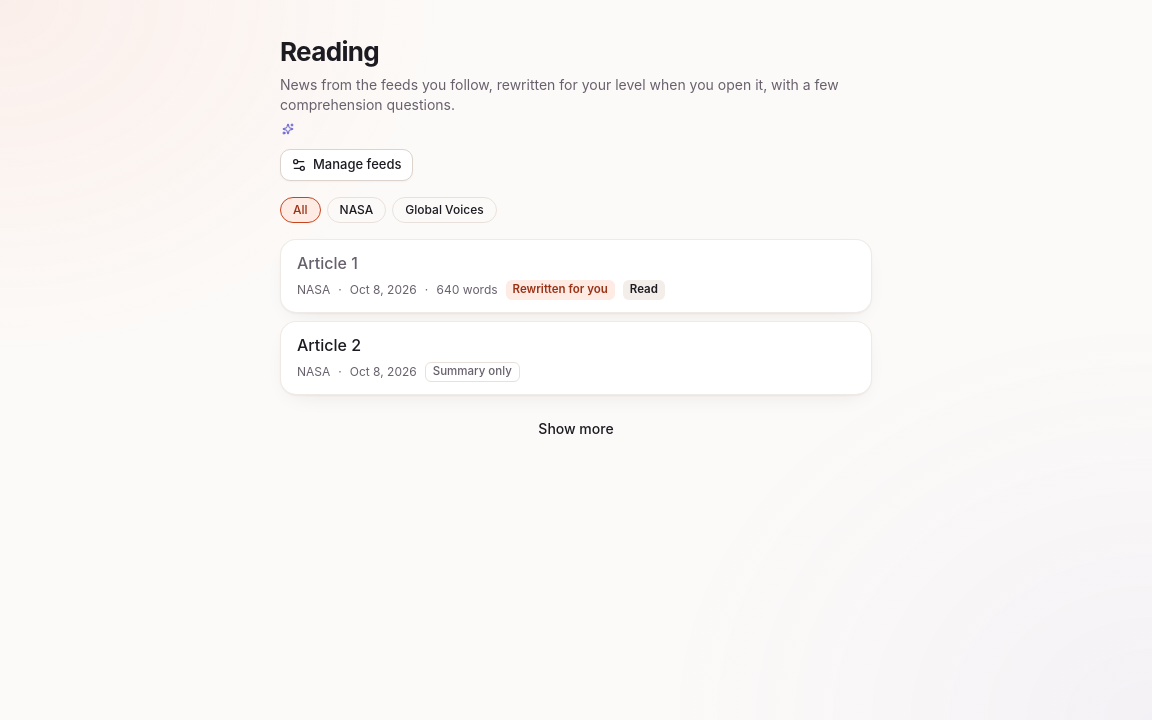
Test: ReadingList › shows why a feed could not be added
This screenshot has width=1152, height=720.
Check: the text "Article 1" is shown, box [297, 253, 358, 273]
Click the button with test id "manage-feeds".
click(346, 165)  # box [280, 149, 412, 181]
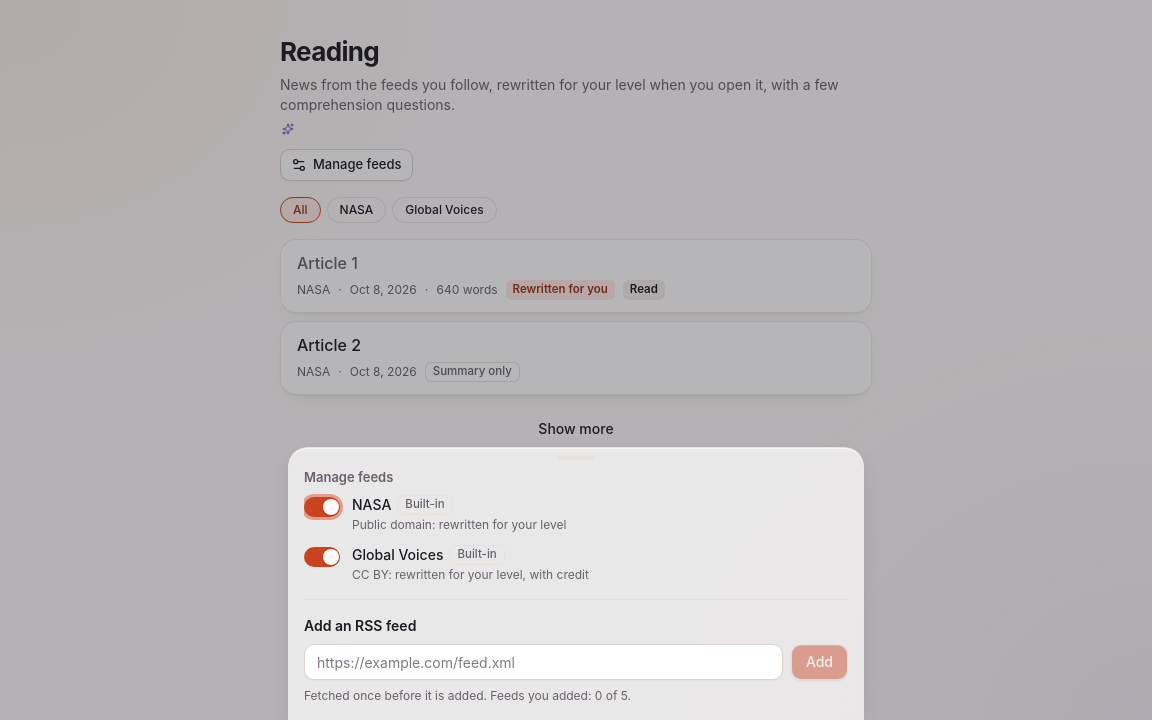
Type "https://example.com/page" into the field with test id "feed-url".
click(543, 662); type("https://example.com/page")  # box [304, 644, 783, 680]
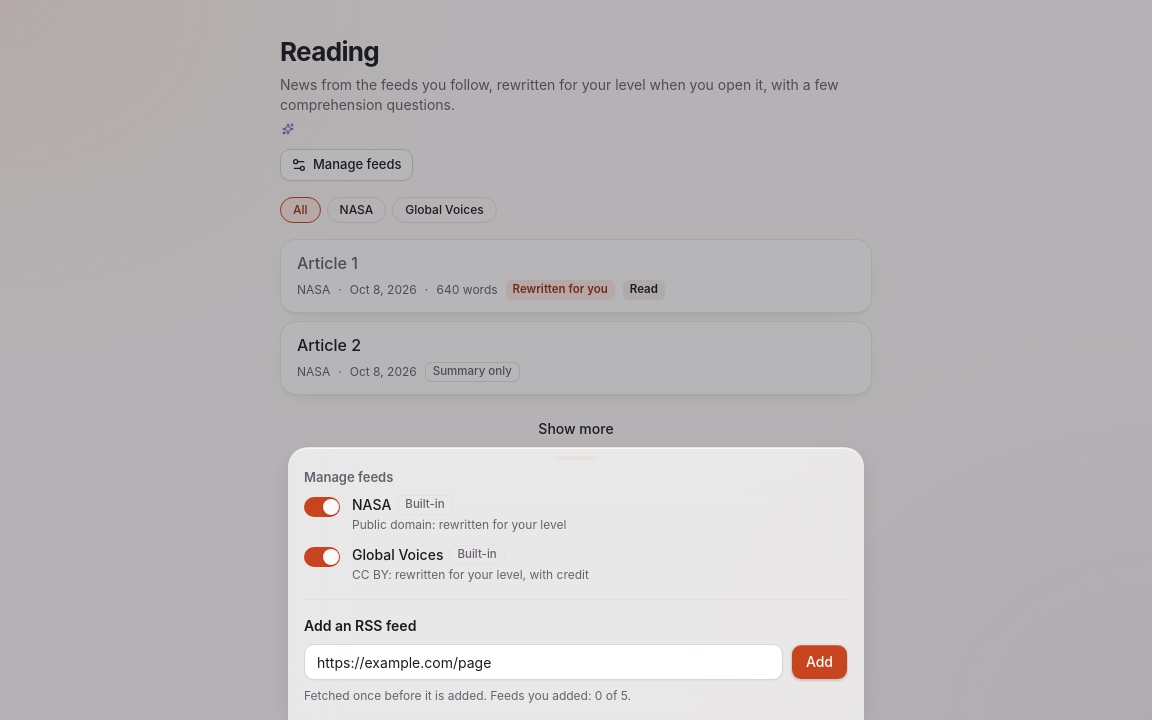
Click the button "Add".
click(819, 662)  # box [791, 644, 848, 680]
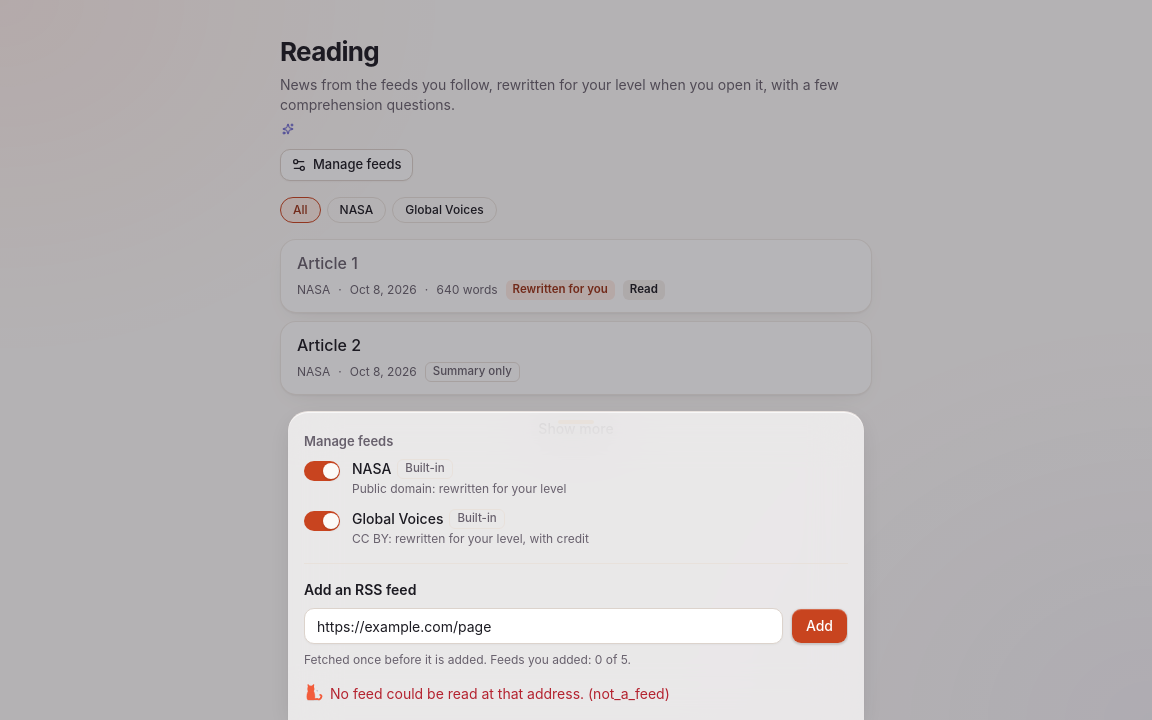
Check: the text "No feed could be read at that address. (not_a_feed)" is shown, box [330, 684, 670, 704]
